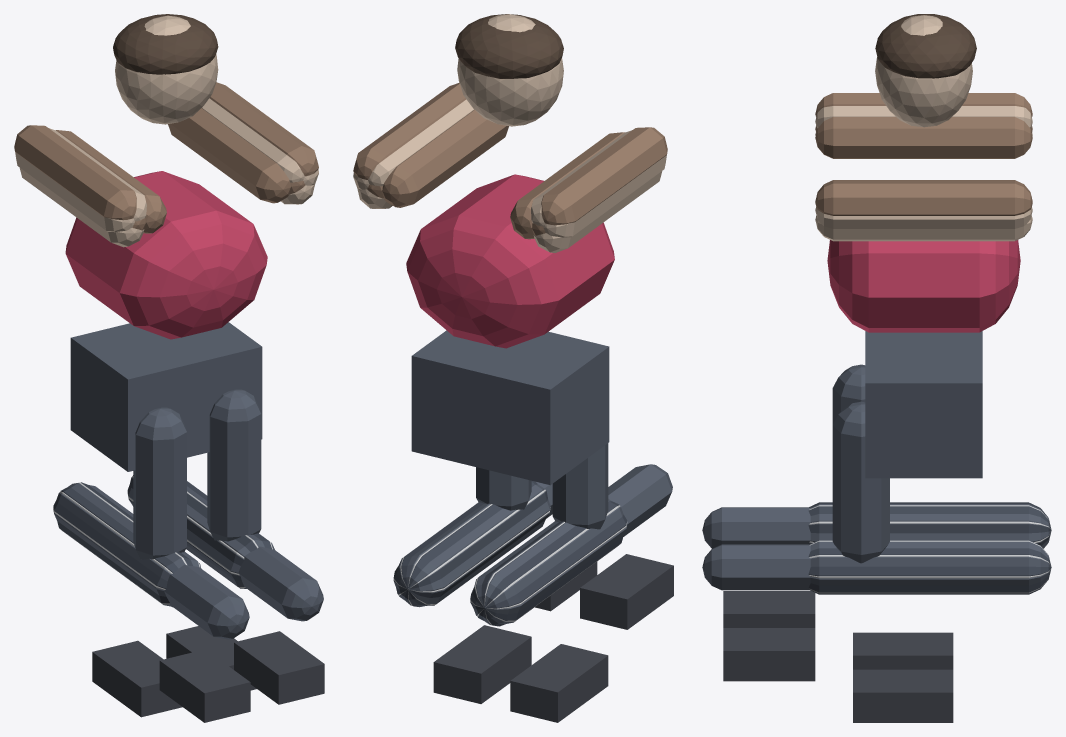
Rendered from crowd.glb.
3 views of the same model, side by side, from view 1: azimuth 30°, elevation 25°; view 2: azimuth 150°, elevation 25°; view 3: azimuth 270°, elevation 25° (orthographic). The views are drawn at different scales.
Visible parts, largest first — view 1: Fan_0, Fan_4, Fan_3, Fan_1, Fan_6, Fan_2; view 2: Fan_0, Fan_3, Fan_4, Fan_1, Fan_6, Fan_2; view 3: Fan_0, Fan_4, Fan_3, Fan_1, Fan_6, Fan_2.
Boxes of the visible parts, box(x1,y1,x2,y2) form: Fan_0: box(19, 14, 314, 717); Fan_4: box(133, 389, 324, 722); Fan_3: box(53, 108, 290, 607); Fan_1: box(14, 82, 318, 220); Fan_6: box(49, 98, 304, 604); Fan_2: box(15, 152, 318, 232); Fan_0: box(357, 14, 662, 722); Fan_3: box(382, 109, 627, 626); Fan_4: box(476, 443, 673, 629); Fan_1: box(353, 83, 667, 225); Fan_6: box(368, 99, 632, 625); Fan_2: box(353, 155, 666, 237); Fan_0: box(810, 14, 1051, 722); Fan_4: box(702, 364, 889, 681); Fan_3: box(808, 117, 1051, 594); Fan_1: box(815, 93, 1032, 215); Fan_6: box(809, 106, 1050, 593); Fan_2: box(815, 207, 1032, 228).
Bounding box in the file's own units: 0.6068 × 1.78 × 0.835.
